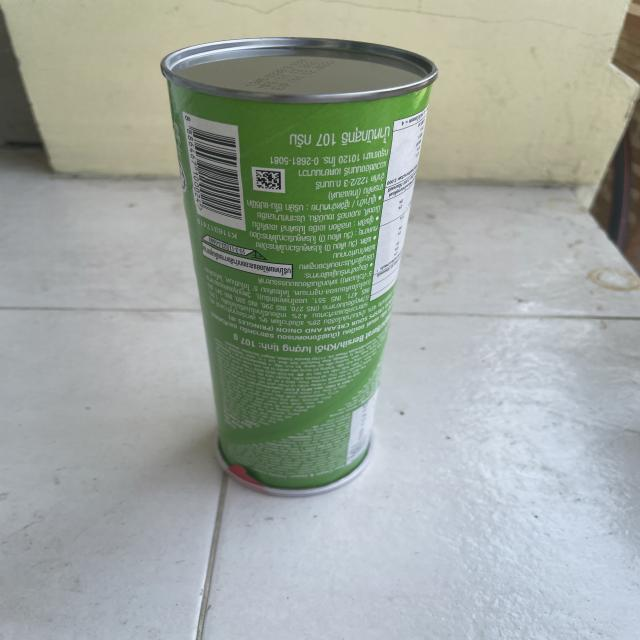a pringles: (153, 31, 443, 499)
